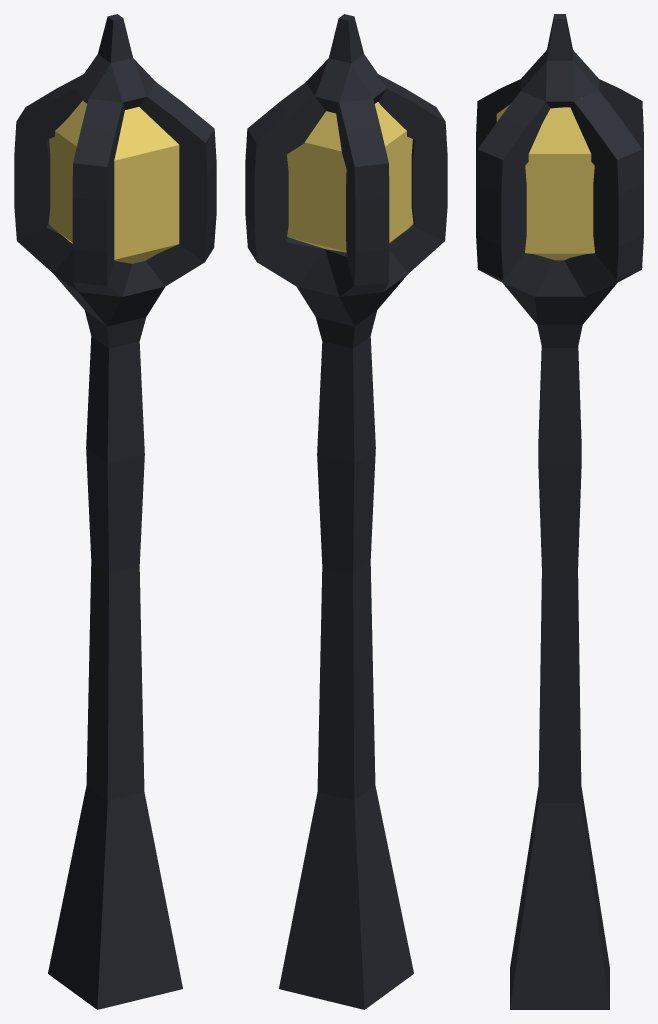
Rendered from Lamp.fbx.
3 views of the same model, side by side, from view 1: azimuth 30°, elevation 25°; view 2: azimuth 150°, elevation 25°; view 3: azimuth 270°, elevation 25° (orthographic).
Parts seen in each view (by area): view 1: Pole; view 2: Pole; view 3: Pole.
Boxes of the visible parts, x1,y1,x2,y2 form: Pole: (14, 14, 216, 1009); Pole: (245, 14, 447, 1009); Pole: (476, 14, 643, 1009).
Bounding box in the file's own units: 235 × 1500 × 235.
